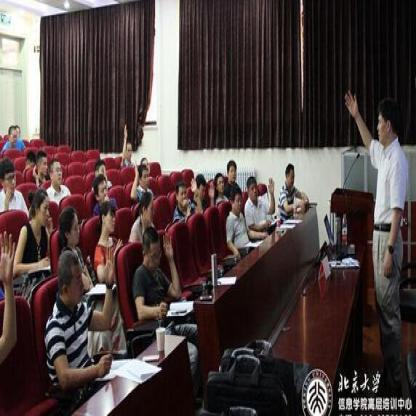head: (57, 250, 83, 302), (374, 93, 400, 143), (57, 204, 80, 250), (27, 185, 50, 227), (142, 226, 161, 270), (137, 188, 155, 227), (228, 181, 243, 212), (99, 202, 114, 233), (48, 156, 63, 186), (92, 173, 108, 201), (91, 156, 107, 178), (193, 170, 206, 197), (36, 147, 47, 177), (175, 178, 186, 206), (283, 159, 294, 185), (24, 147, 36, 170), (246, 173, 257, 198), (224, 158, 236, 180), (7, 121, 18, 144), (138, 161, 148, 186), (214, 172, 224, 193), (123, 138, 132, 159), (140, 154, 149, 174), (12, 119, 20, 136)
